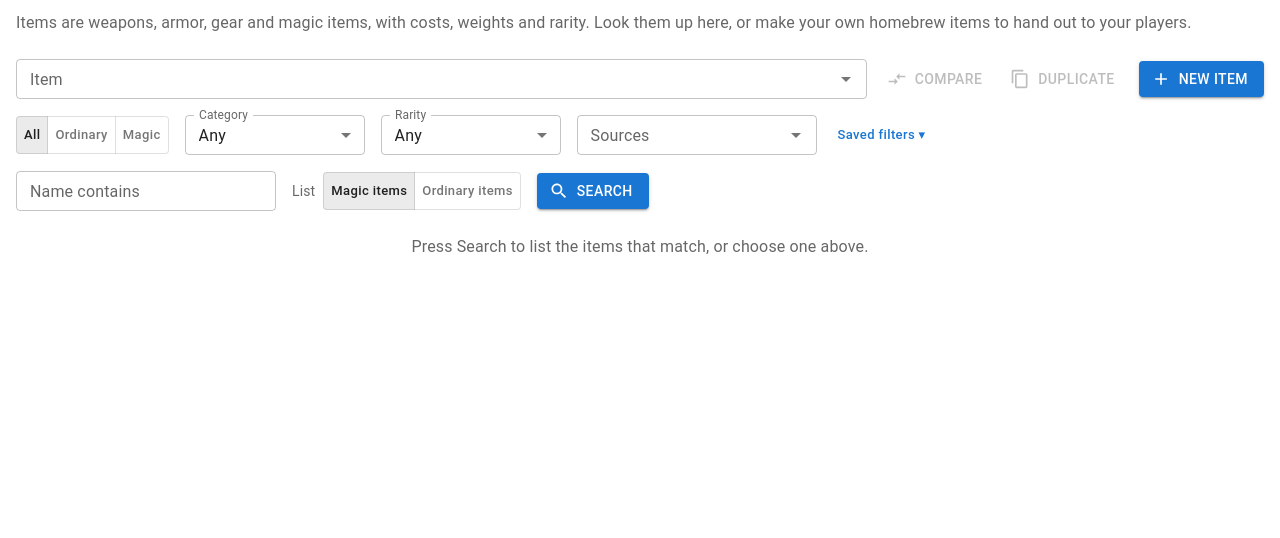
Test: items in a document shared with the user › can be changed and deleted by an editor
This screenshot has width=1280, height=538.
Type "lantern" into the dropdown labelled "Item" at (425, 79), box top-left (22, 65), bottom-right (828, 93)
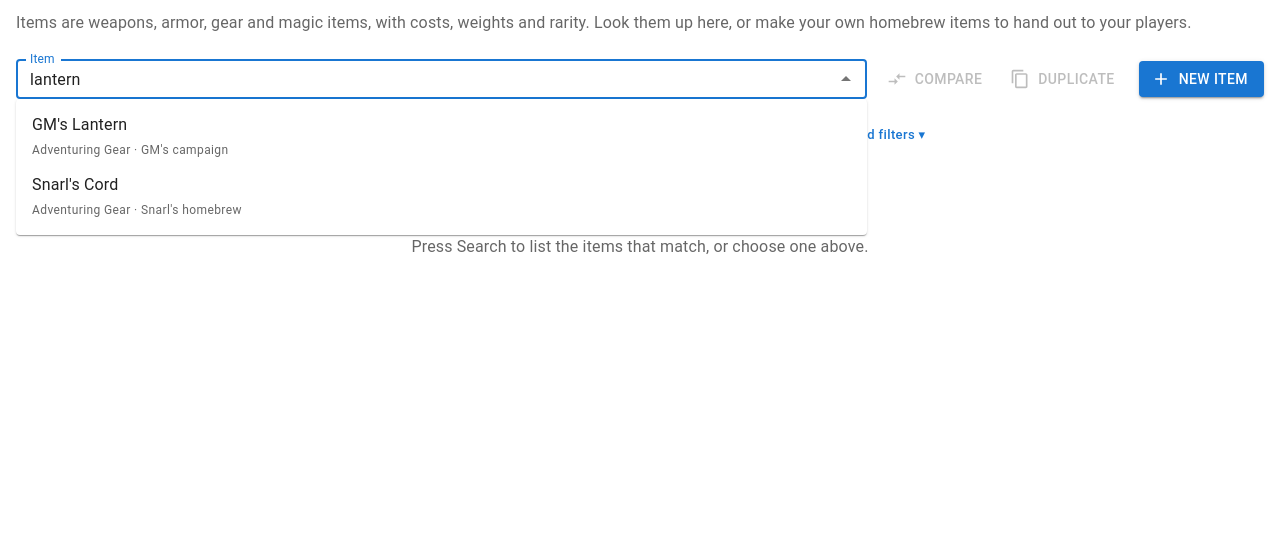
Expected: the option "GM's Lantern Adventuring Gear · GM's campaign" is shown
Click the option "GM's Lantern Adventuring Gear · GM's campaign" at (80, 124), box top-left (32, 115), bottom-right (228, 157)
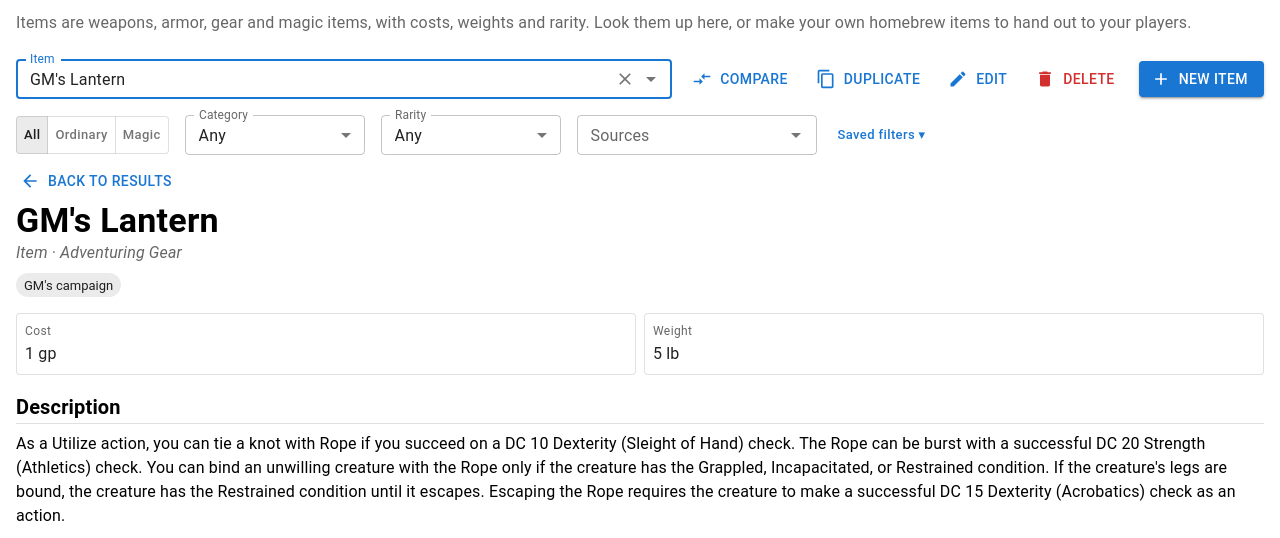
Expected: the button "Edit" is shown, top-left (944, 61), bottom-right (1015, 97)
Expected: the button "Delete" is shown, top-left (1031, 61), bottom-right (1123, 97)
